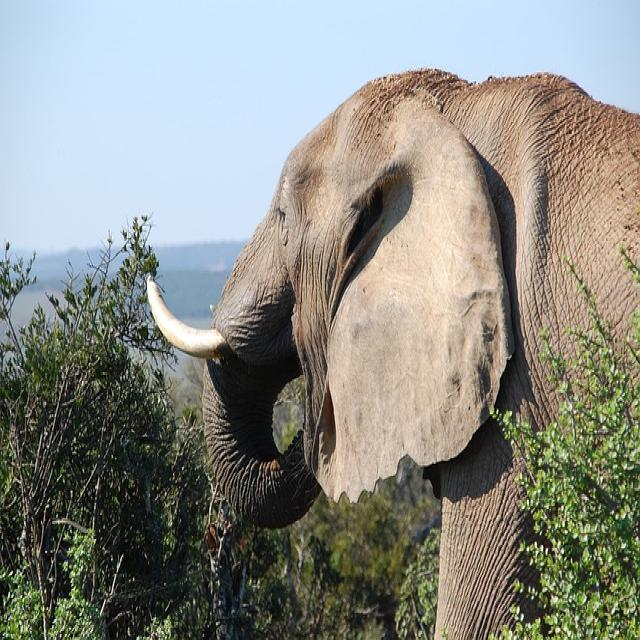elephant: (150, 70, 640, 638)
